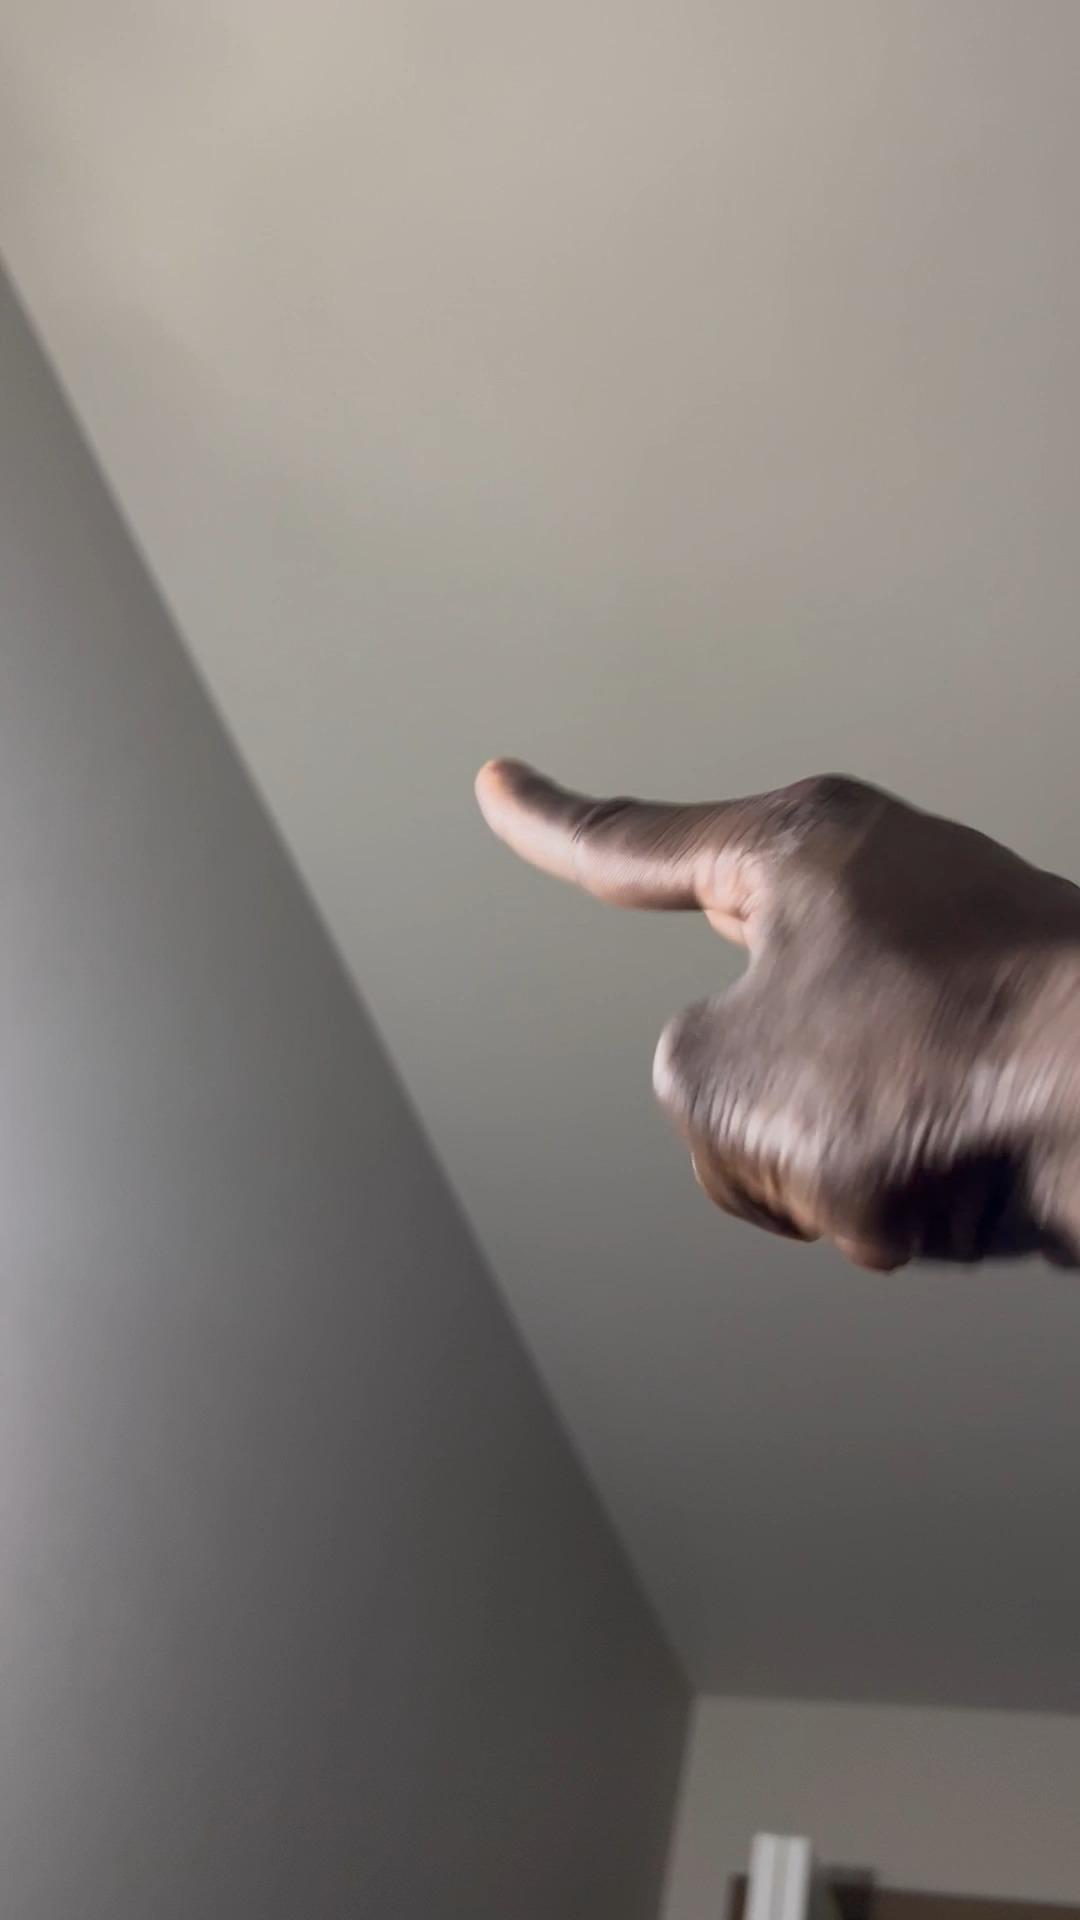Scissors: (480, 762, 1080, 1286)
